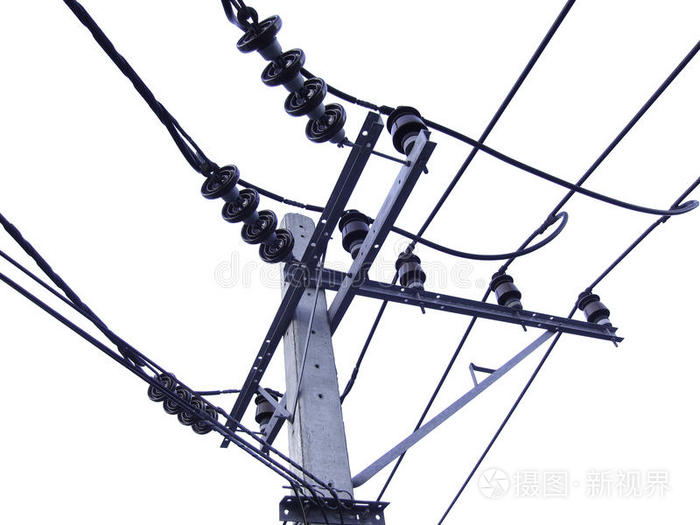insulator: (242, 16, 346, 144), (200, 162, 295, 264), (147, 370, 219, 436)
